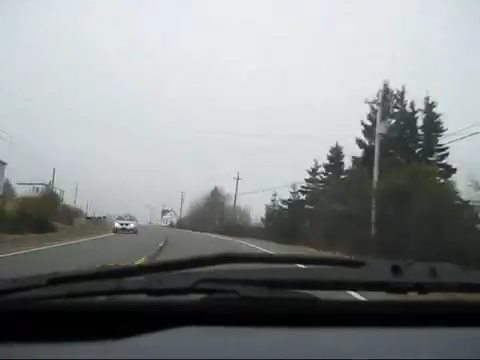car: (111, 213, 139, 234)
